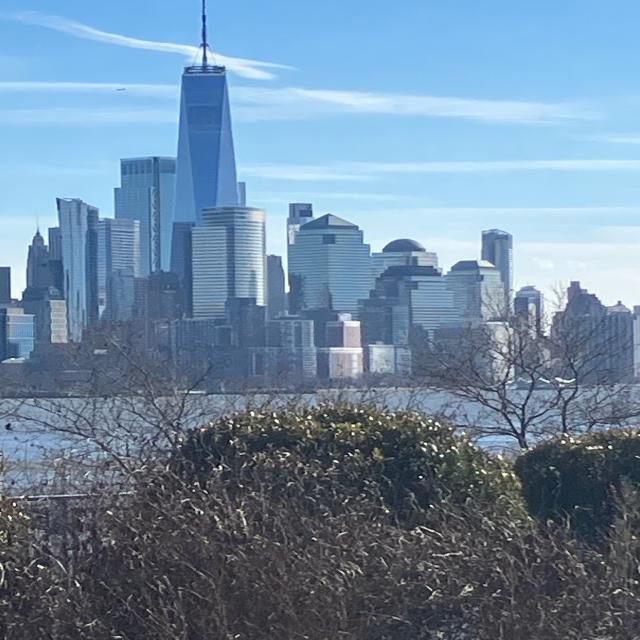WTC: (173, 0, 237, 217)
